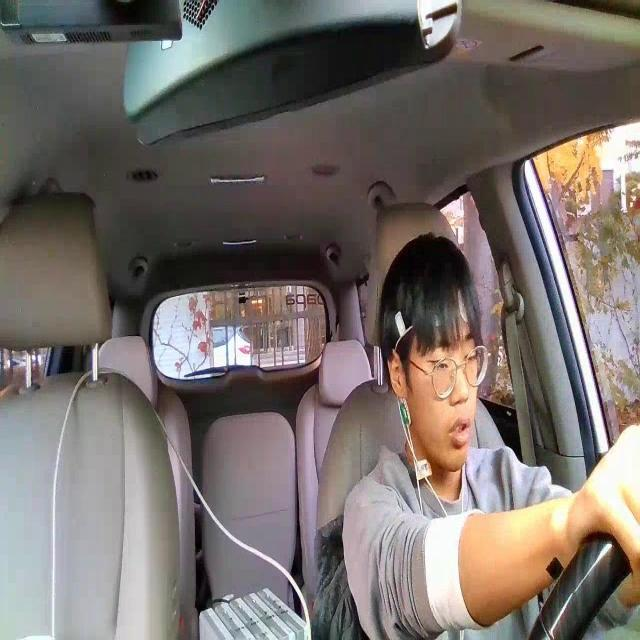Attentive: (379, 231, 483, 471)
